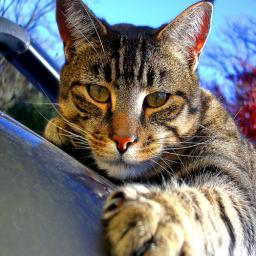catnose: (111, 133, 135, 154)
